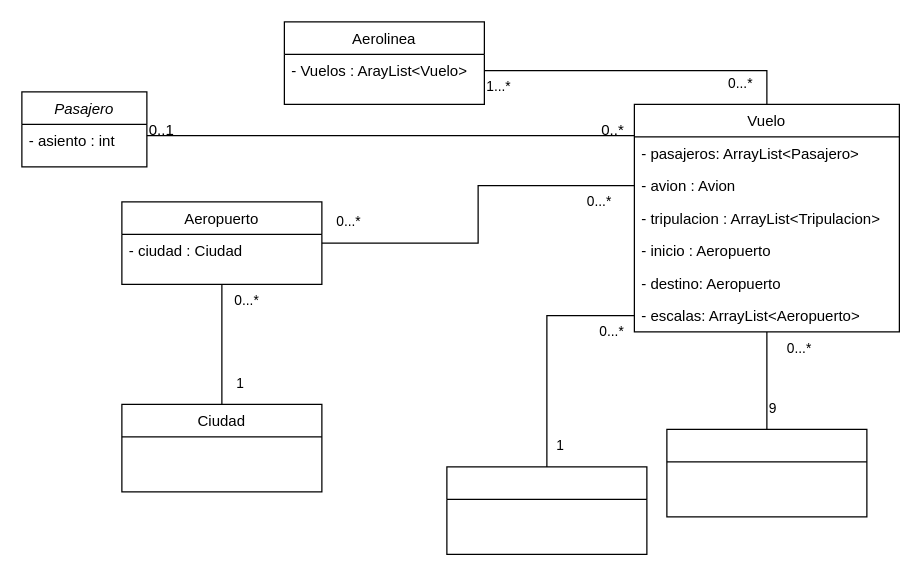
Image size: 921x576. Some labels were removed from this diagram. The shapes that lost their labels are listed below. From the top down, each one's centre as x and y in pixels, then its label:
At [766,472]: "Tripulacion".
At [546,510]: "Avion".
